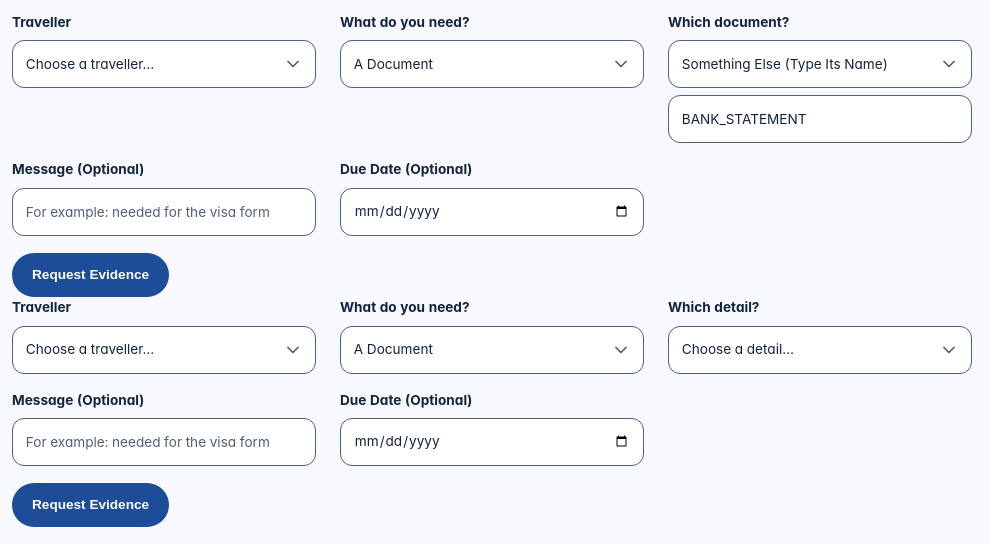
Scenario: RequestEvidenceForm document choice › goes back to asking for a detail when the form is reset after sending
Select "A Document" in the dropdown with id "kind" at (492, 350), box [340,326,644,374]
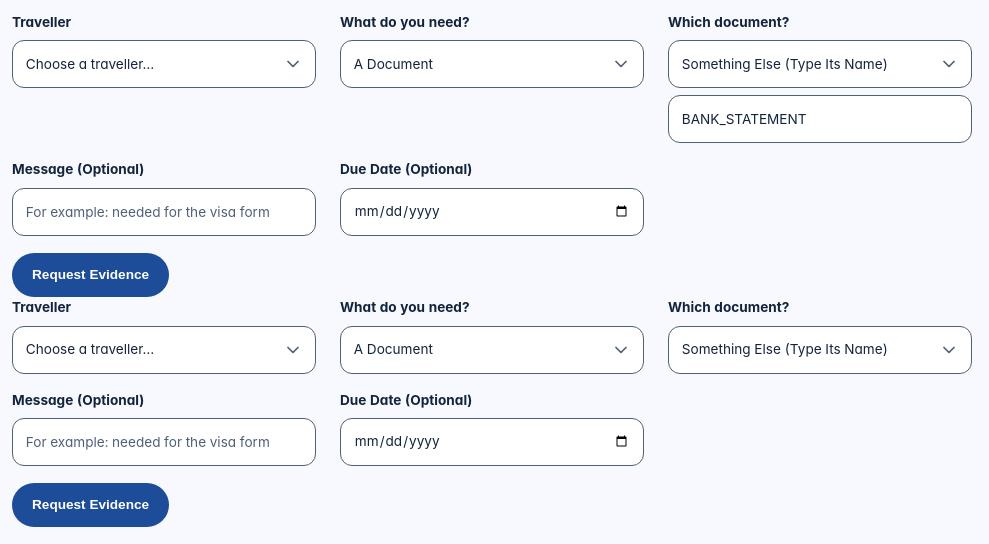
Select "Something Else (Type Its Name)" in the dropdown with id "key" at (820, 350), box [668,326,972,374]
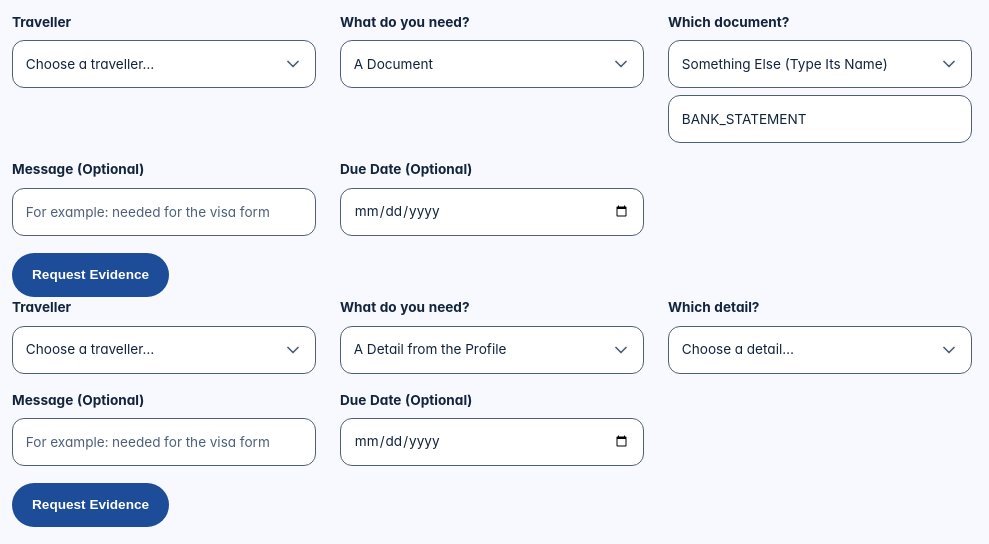
expect the label "Which detail?" is shown: met, box [668,299,759,315]
